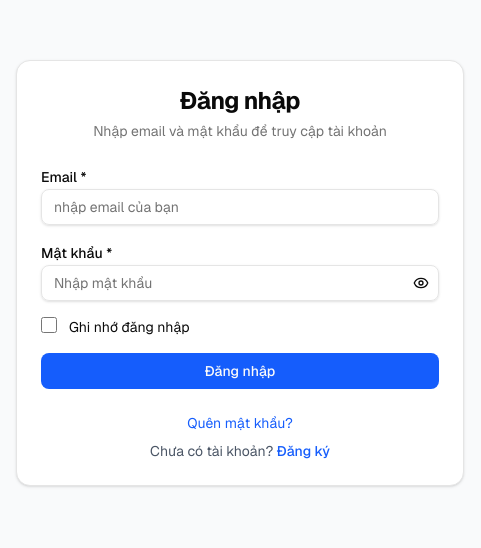
LoginPage › handles invalid credentials error
The image size is (481, 548).
Step 1. Type "test@example.com" into the field labelled "Email *" → (240, 207), box x1=41 y1=189 x2=439 y2=225
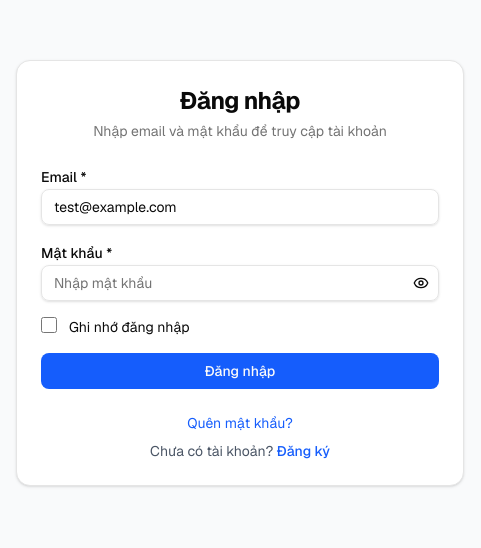
Step 2. Type "wrongpassword" into the password field labelled "Mật khẩu *" → (240, 283), box x1=41 y1=265 x2=439 y2=301
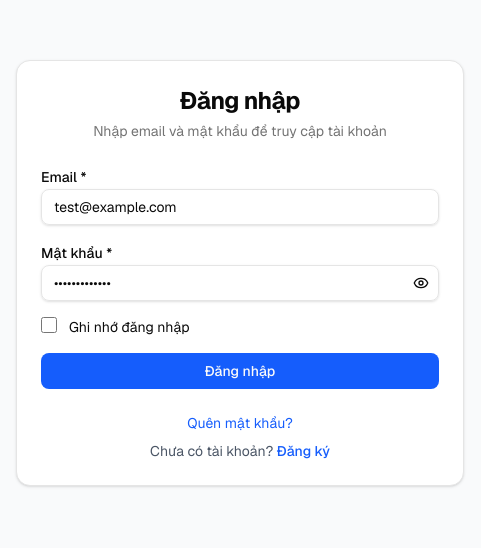
Step 3. Click the button "Đăng nhập" → (240, 371), box x1=41 y1=353 x2=439 y2=389
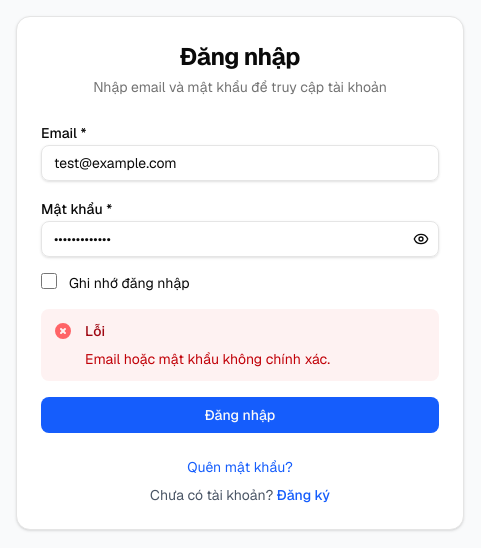
Expected: the text "Email hoặc mật khẩu không chính xác." is shown, x1=85 y1=349 x2=330 y2=369
